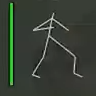hacks_2: (9, 2, 83, 85)
